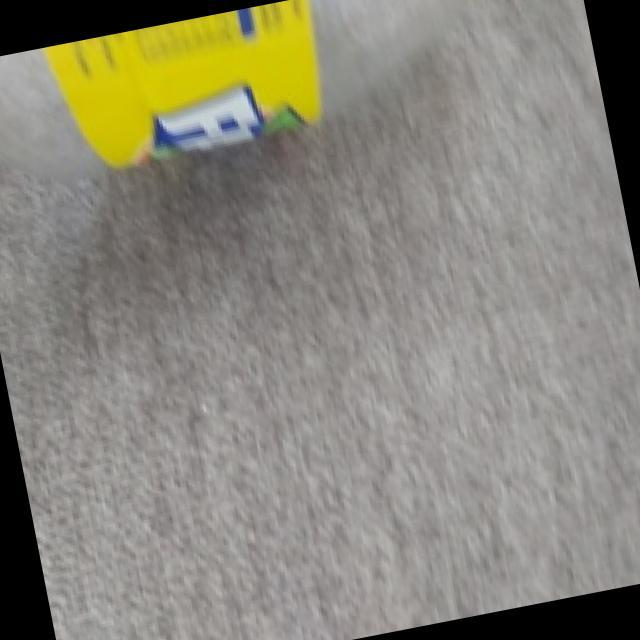good: (0, 0, 588, 196)
